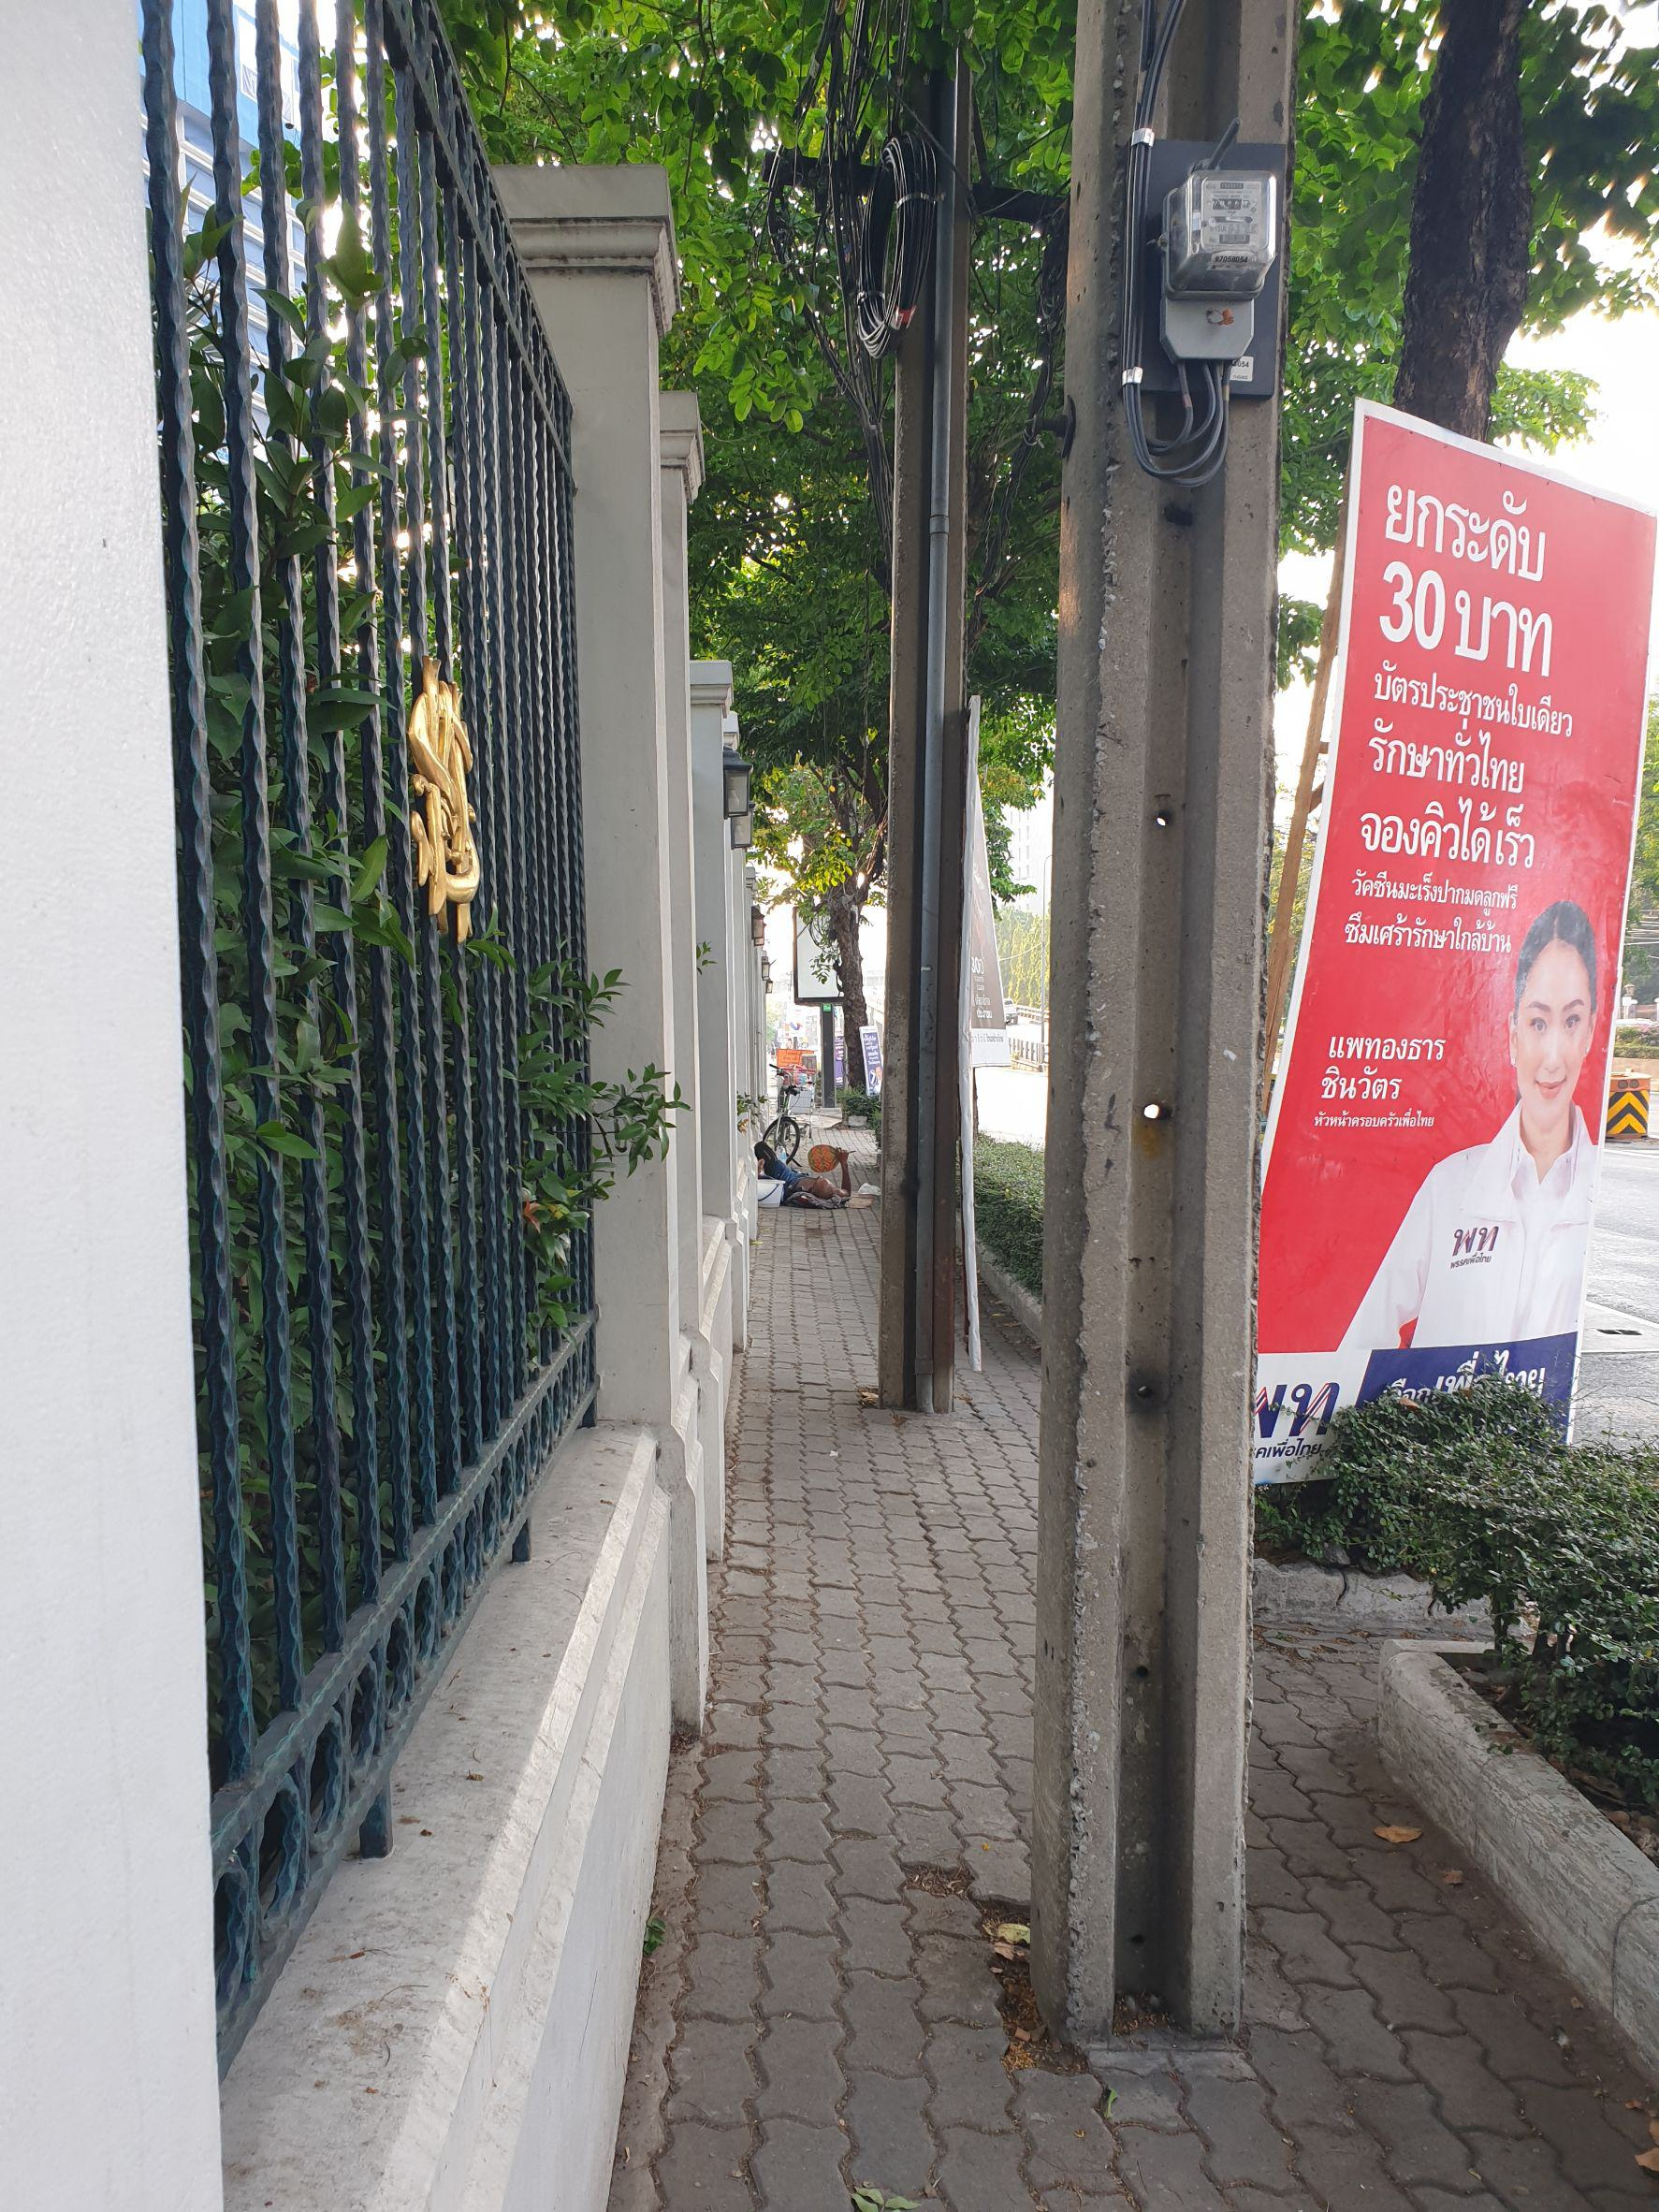Banner: (1249, 394, 1656, 1461)
